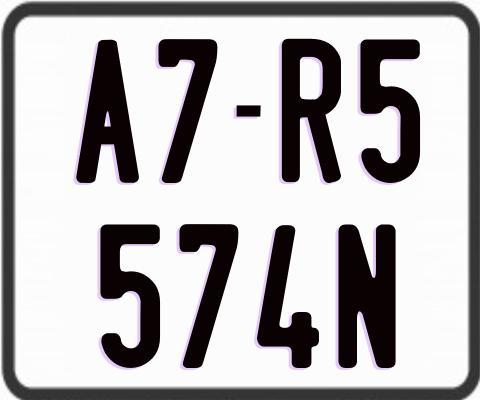4: (257, 222, 325, 368)
5: (100, 223, 166, 372), (360, 36, 423, 182)
7: (176, 222, 236, 368), (156, 39, 215, 185)
A: (75, 37, 140, 182)
N: (337, 223, 397, 367)
R: (282, 38, 345, 185)
